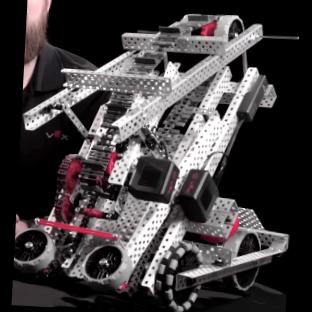Robot: (11, 0, 301, 312)
